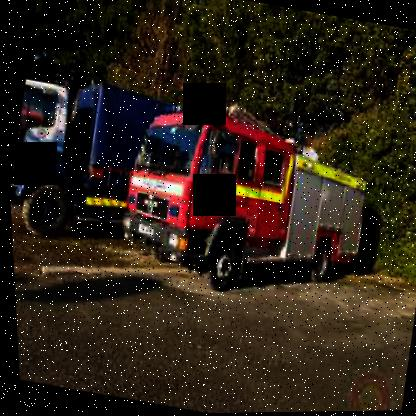emergency: (93, 78, 410, 332)
